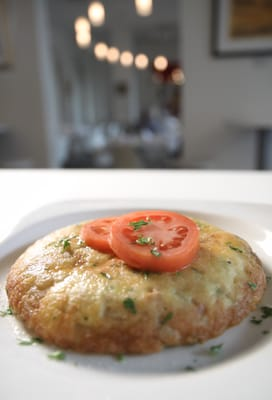sandwich: (7, 210, 266, 355)
